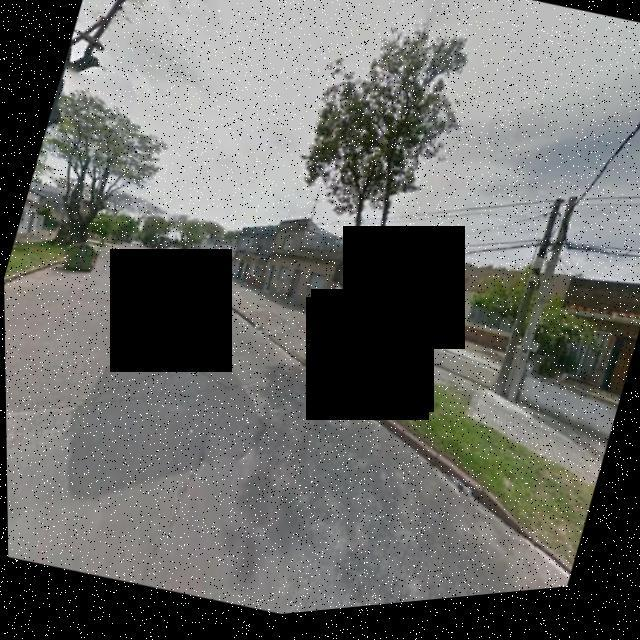bin: (50, 229, 107, 287)
